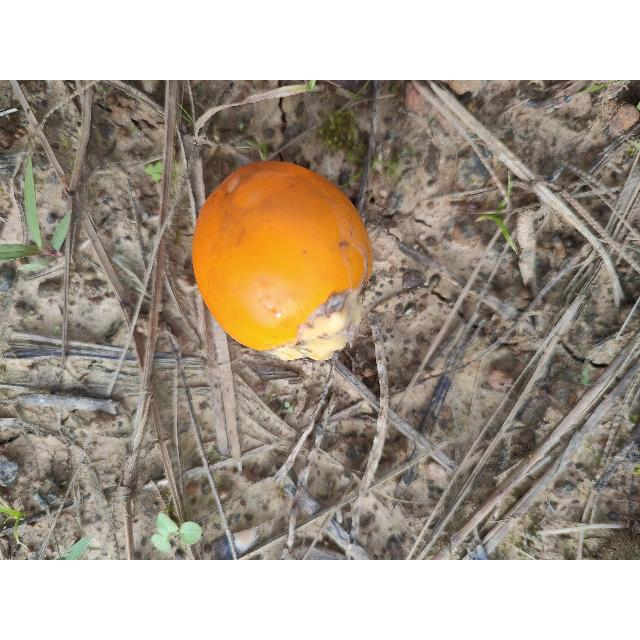good: (191, 161, 374, 360)
